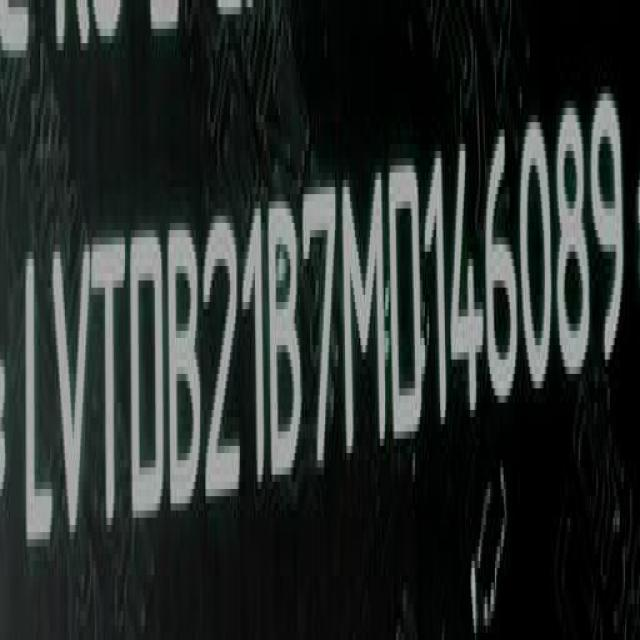0: (520, 115, 556, 404)
1: (244, 195, 269, 502), (425, 146, 448, 447)
2: (205, 208, 244, 518)
4: (450, 136, 487, 427)
6: (485, 120, 521, 410)
7: (302, 172, 340, 484)
8: (557, 104, 590, 382)
9: (594, 83, 628, 379)
B: (170, 216, 206, 523), (268, 189, 303, 496)
D: (128, 222, 170, 532), (386, 154, 422, 464)
L: (18, 247, 53, 567)
M: (342, 159, 391, 466)
T: (97, 225, 129, 549)
V: (50, 235, 94, 555)
